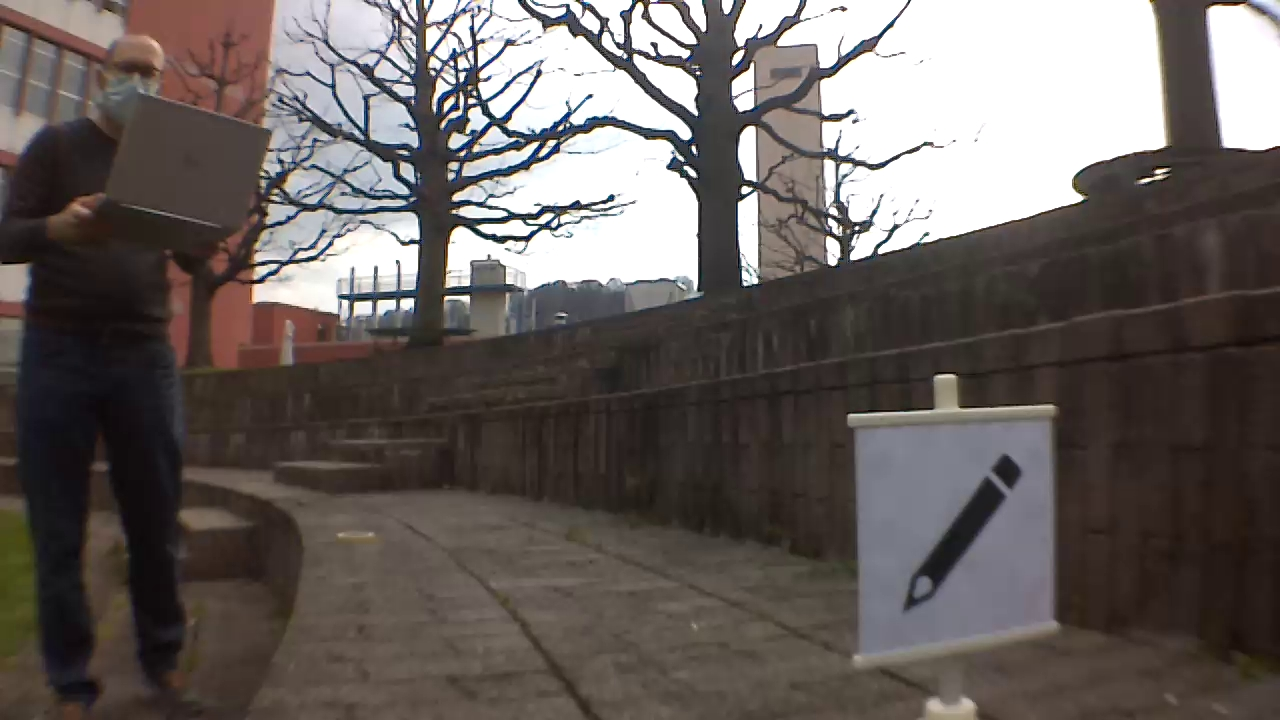pencil: (900, 452, 1028, 614)
